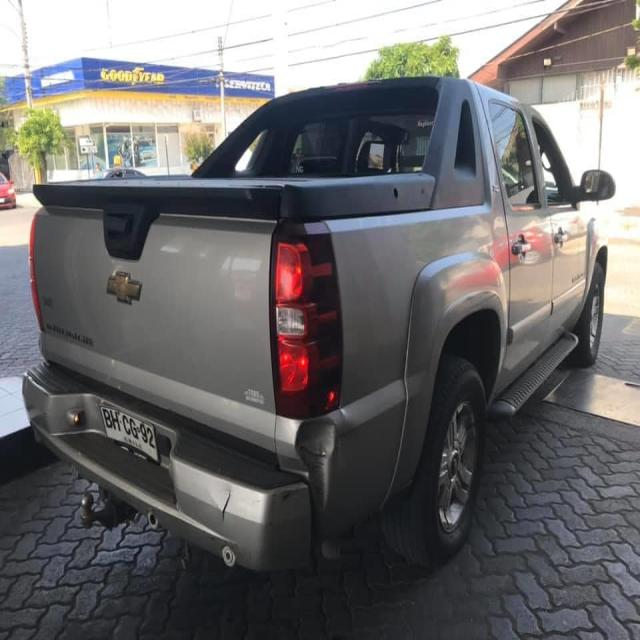patente: (98, 401, 161, 465)
